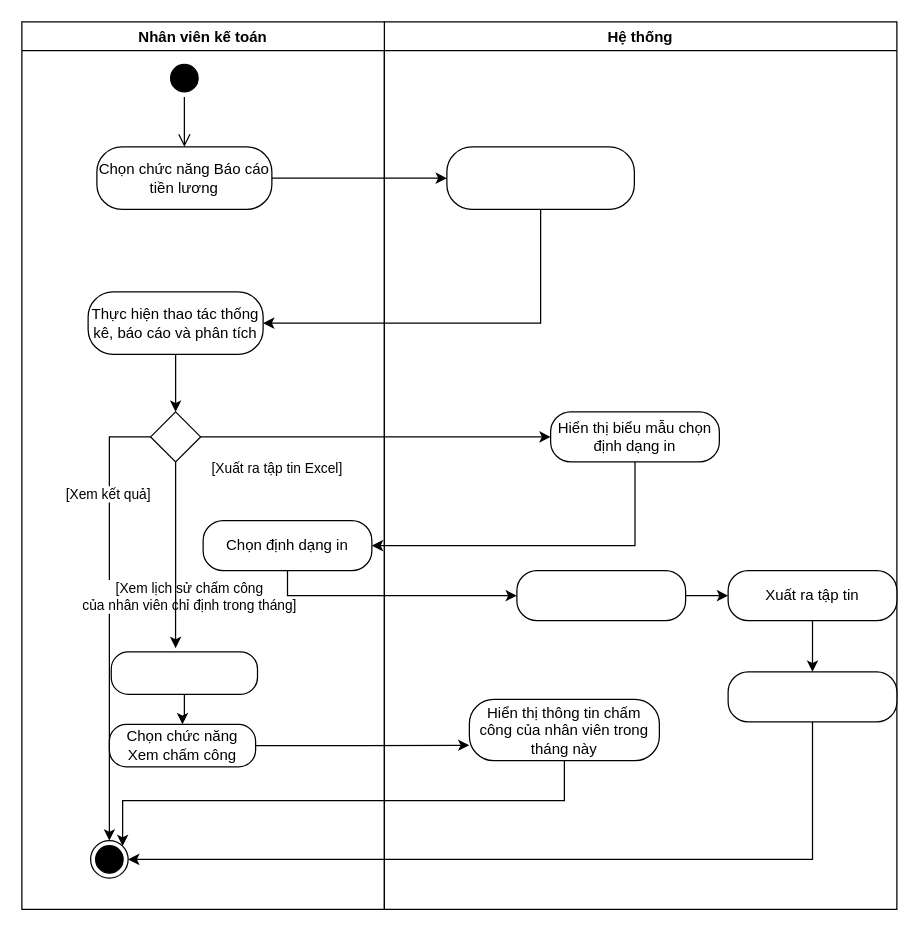
Some shapes in this 919 by 931 pixel diagram are drawn without their labels. Here are the shapes that lost their labels. From the top down, the centre of each, then its label:
the point at 540,177: Hiển thị tiền lương của tất cả nhân viên vào tháng này
the point at 601,595: Xử lý in
the point at 184,672: Chọn nhân viên muốn xem
the point at 812,696: Thông báo thành công
